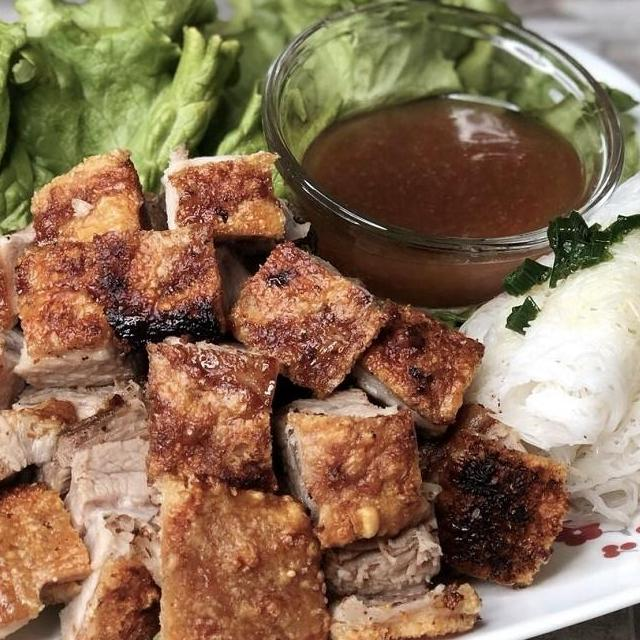banh hoi: (472, 162, 640, 458), (555, 305, 640, 545)
banh hoi heo quay: (0, 0, 640, 640)
thit heo quay: (135, 458, 343, 640), (208, 226, 402, 417), (398, 391, 574, 597), (257, 376, 443, 562), (130, 321, 296, 508), (82, 214, 236, 387), (0, 365, 161, 526), (2, 230, 152, 394), (311, 503, 488, 640), (339, 290, 488, 446), (142, 136, 302, 255), (0, 463, 103, 640), (16, 140, 162, 258), (0, 215, 54, 340), (0, 312, 36, 430)
